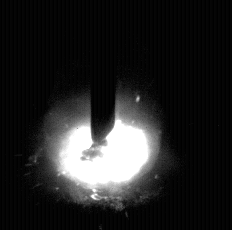arame: (91, 0, 117, 156)
poca: (46, 0, 160, 230)
